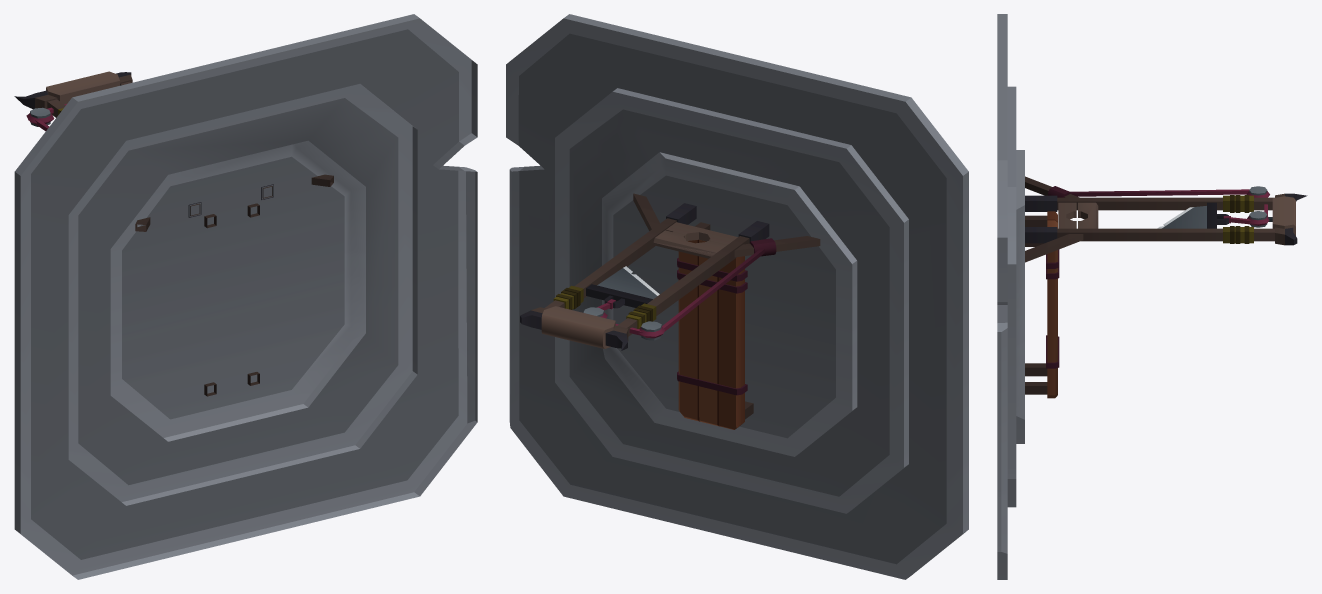
The model's file is Guillotine 01.FBX.
3 views of the same model, side by side, from view 1: azimuth 30°, elevation 25°; view 2: azimuth 150°, elevation 25°; view 3: azimuth 270°, elevation 25° (orthographic). The views are drawn at different scales.
Parts seen in each view (by area): view 1: Guillotine Base 01, Guillotine 01; view 2: Guillotine Base 01, Guillotine 01; view 3: Guillotine 01, Guillotine Base 01.
Part boxes in pixels (x1,y1,x2,y2): Guillotine Base 01: (14, 14, 477, 579); Guillotine 01: (14, 71, 333, 396); Guillotine Base 01: (506, 14, 968, 579); Guillotine 01: (520, 193, 820, 429); Guillotine 01: (1025, 176, 1307, 398); Guillotine Base 01: (997, 14, 1024, 579).
Size of the model in its own units: 639 by 639 by 429.
